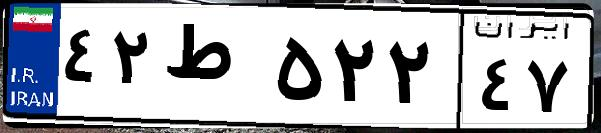2: (385, 28, 445, 110), (330, 28, 385, 110), (110, 28, 158, 98)
4: (57, 26, 110, 100), (475, 38, 525, 113)
5: (270, 28, 330, 110)
7: (525, 38, 570, 115)
ط: (158, 20, 270, 120)
